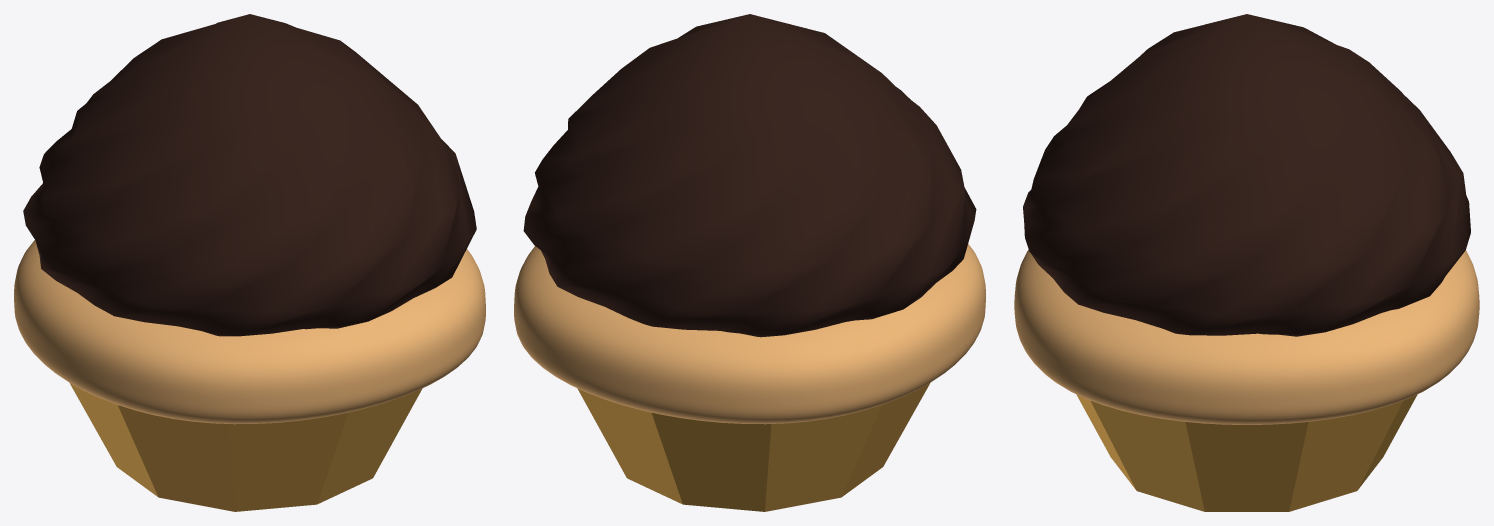
File: cupcake.glb
3 renders of one model, left to right at view 1: azimuth 30°, elevation 25°; view 2: azimuth 150°, elevation 25°; view 3: azimuth 270°, elevation 25°, orthographic.
Visible parts, largest first — view 1: Cone, cake, cup; view 2: Cone, cake, cup; view 3: Cone, cake, cup.
Boxes of the visible parts, box(x1,y1,x2,y2) form: Cone: box(23, 14, 476, 336); cake: box(14, 240, 485, 424); cup: box(70, 383, 422, 511); Cone: box(523, 14, 976, 337); cake: box(514, 244, 985, 424); cup: box(577, 383, 929, 511); Cone: box(1023, 14, 1470, 336); cake: box(1014, 249, 1479, 424); cup: box(1076, 394, 1417, 511).
Bounding box in the file's own units: 2.31 × 2.43 × 2.31.
